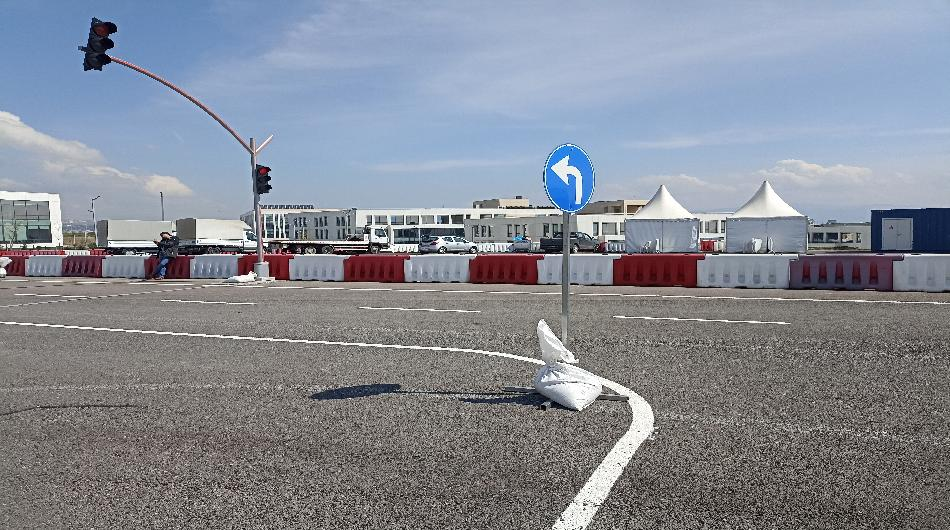sola_mecburi_2: (542, 143, 597, 215)
